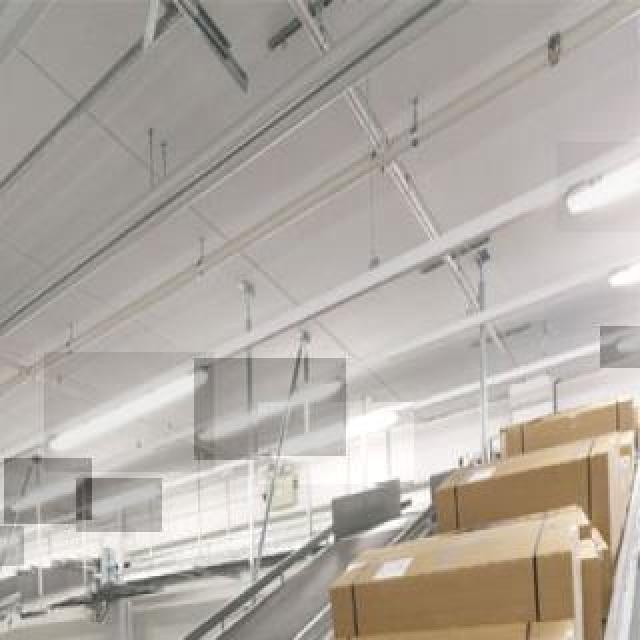fluorescent tube: (55, 372, 209, 452), (182, 382, 342, 449), (563, 150, 640, 234), (7, 477, 91, 515), (0, 534, 26, 564)
